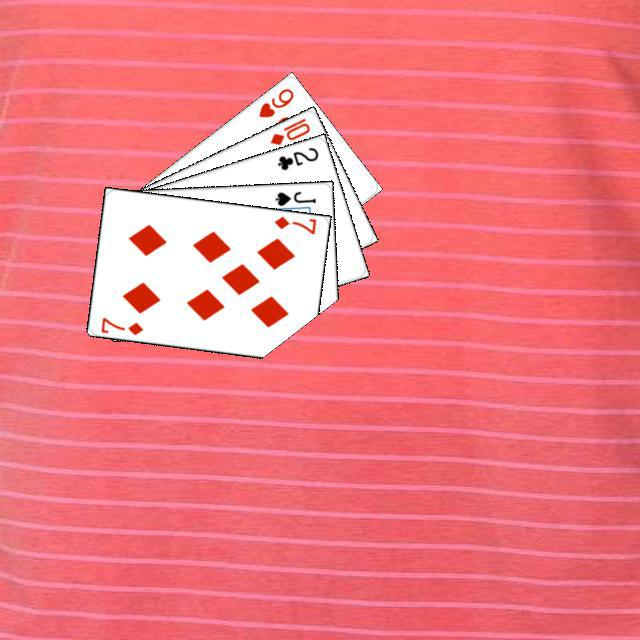10d: (265, 113, 312, 147)
2c: (272, 142, 320, 172)
7d: (269, 211, 318, 236), (96, 312, 145, 337)
9h: (253, 83, 295, 119)
Js: (270, 187, 318, 207)
